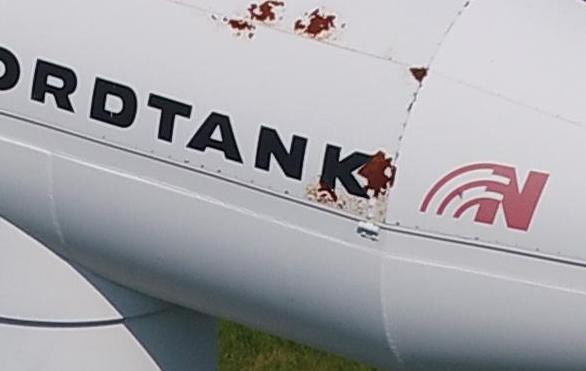damage: (357, 150, 397, 199), (293, 6, 345, 42), (307, 173, 343, 211), (210, 14, 257, 39), (249, 0, 286, 25), (409, 65, 429, 81)
